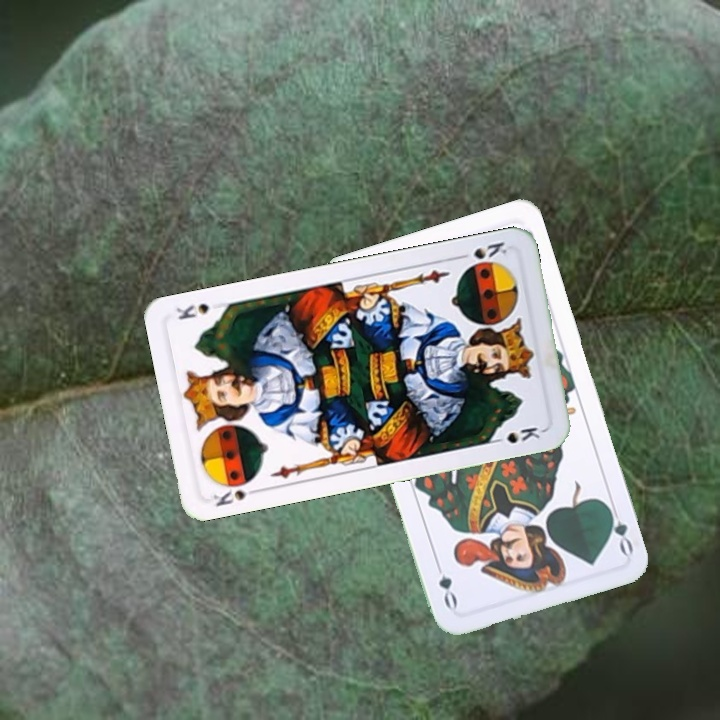GO: (602, 499, 636, 558)
SK: (208, 475, 264, 509), (452, 238, 510, 262)
